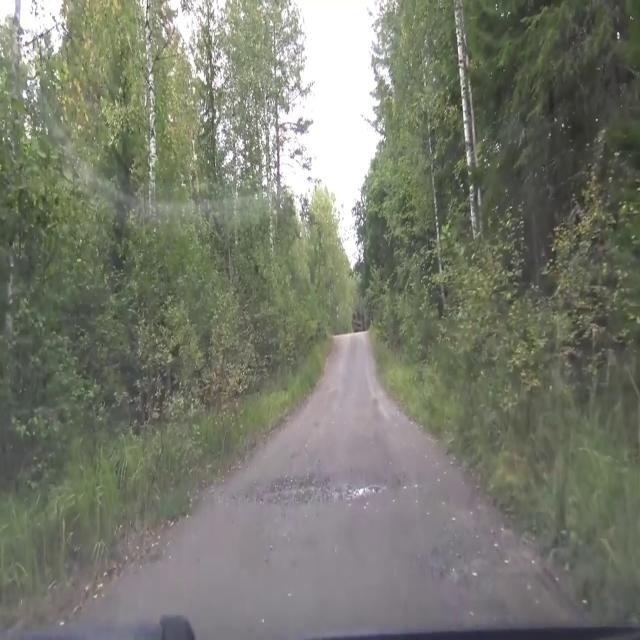pothole: (412, 514, 518, 618), (239, 454, 407, 509)
